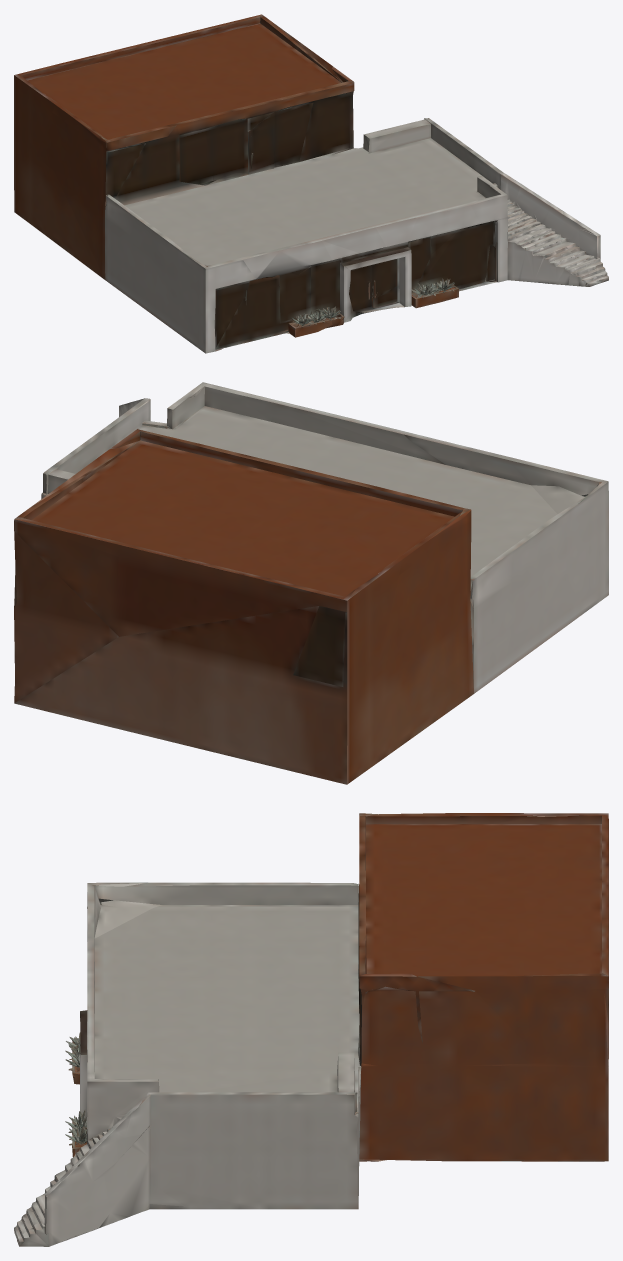
File: gbank.glb
3 renders of one model, top to bottom at view 1: azimuth 30°, elevation 25°; view 2: azimuth 150°, elevation 25°; view 3: azimuth 270°, elevation 25°, orthographic. The views are drawn at different scales.
Parts seen in each view (by area): view 1: LO; view 2: LO; view 3: LO.
Part boxes in pixels (bbox=[...]): LO: bbox=[14, 14, 608, 353]; LO: bbox=[14, 382, 608, 784]; LO: bbox=[14, 813, 608, 1246].
Size of the model in its own units: 30 by 10.4 by 30.15.
Materials: 1 (1 with a texture image).
